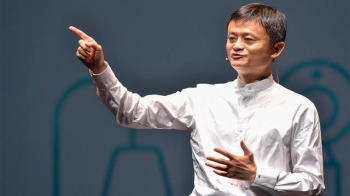hand: (205, 139, 257, 183), (67, 25, 104, 69)
